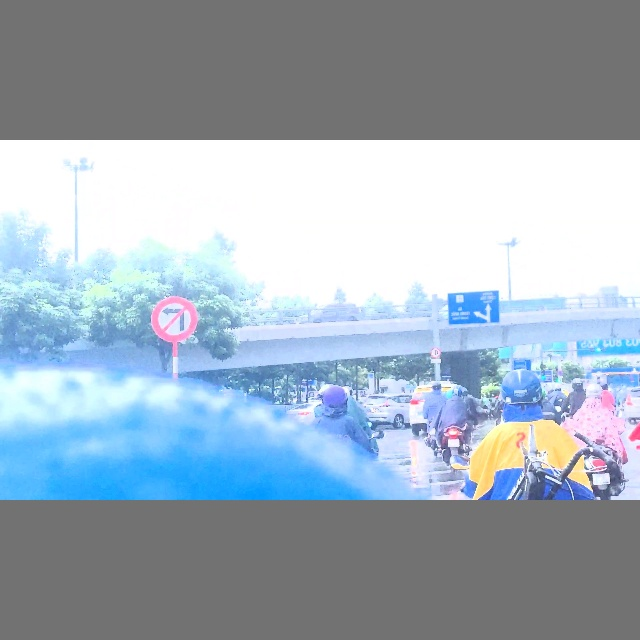P.123b: (150, 295, 198, 343)
P.124b1: (431, 347, 441, 358)
